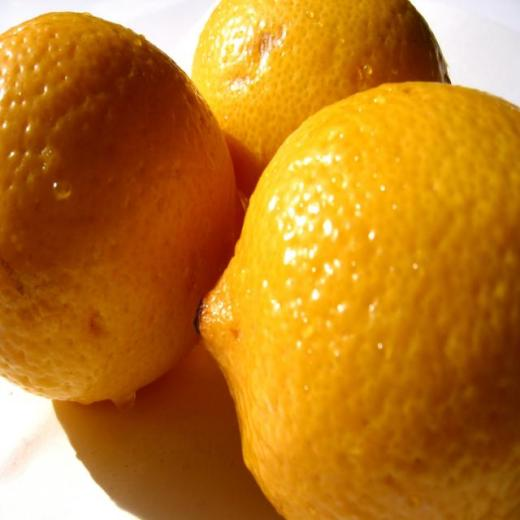Grape: (194, 80, 519, 520), (0, 11, 245, 405), (190, 1, 452, 214)
